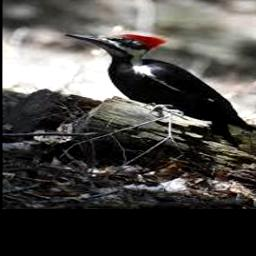Woodpecker: (66, 31, 256, 144)
